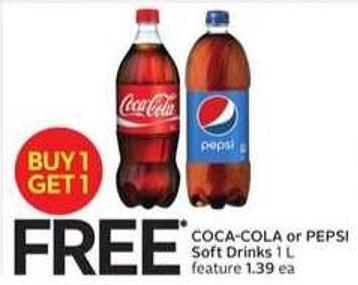pepsi: (194, 93, 238, 136)
